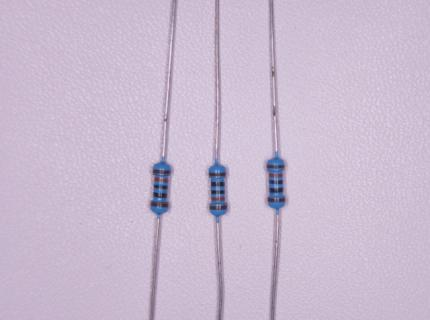Black band: (154, 192, 167, 198), (211, 182, 225, 187), (269, 180, 283, 185), (211, 190, 224, 195), (270, 188, 283, 193), (154, 185, 168, 189)
Brown band: (151, 201, 169, 207), (153, 170, 171, 174), (209, 206, 227, 210), (267, 165, 285, 169), (268, 198, 285, 202), (209, 173, 226, 176)
Orange band: (155, 177, 168, 183), (269, 173, 283, 177), (211, 197, 225, 201)
